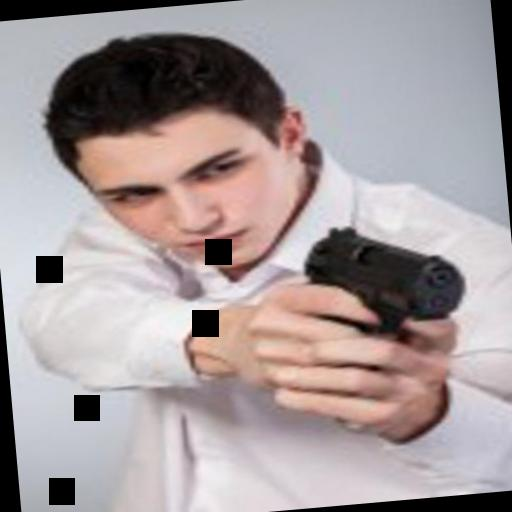Handgun: (282, 215, 470, 364)
